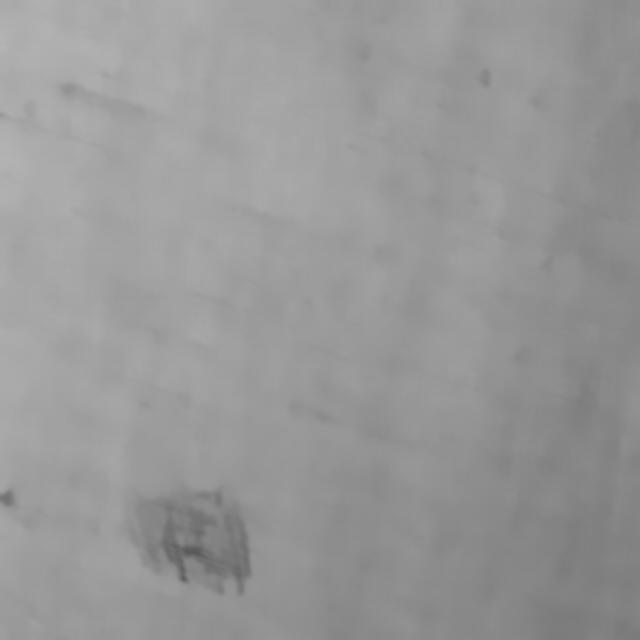Thread_other: (88, 456, 276, 608)
